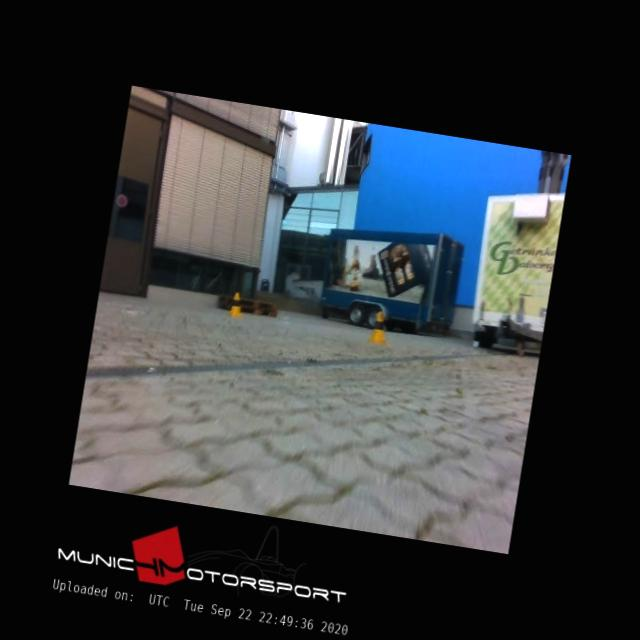yellow_cone: (368, 311, 389, 344), (228, 292, 244, 316)
